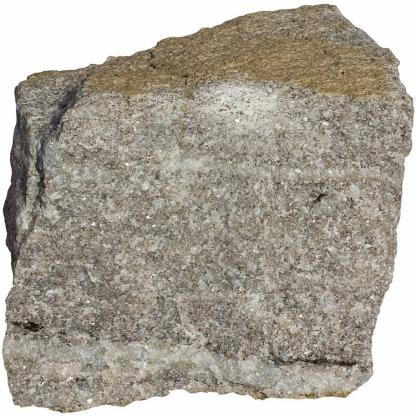Metamorphic_Marble: (8, 4, 416, 416)
